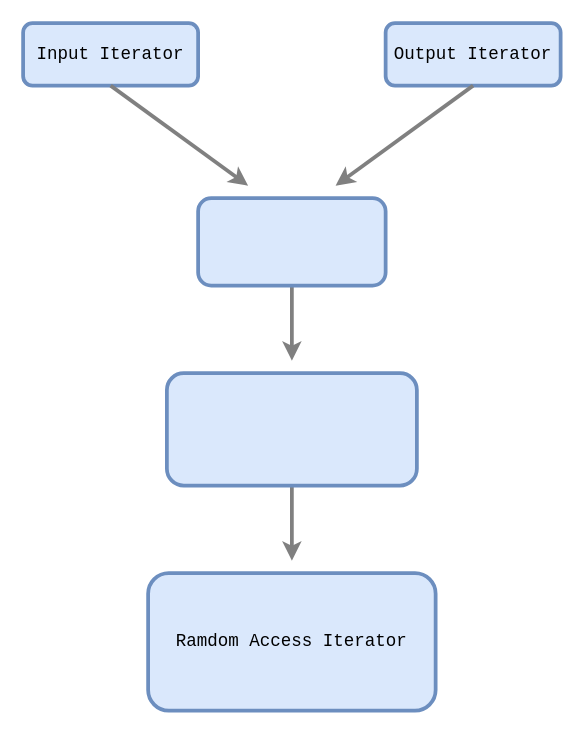
Image size: 584x734. Some labels were removed from this diagram. Here are the shapes that lost their labels. From the top down, the centre of each, then its label:
At [291,241]: "Forward Iterator".
At [291,429]: "Bidirectional Iterator".
